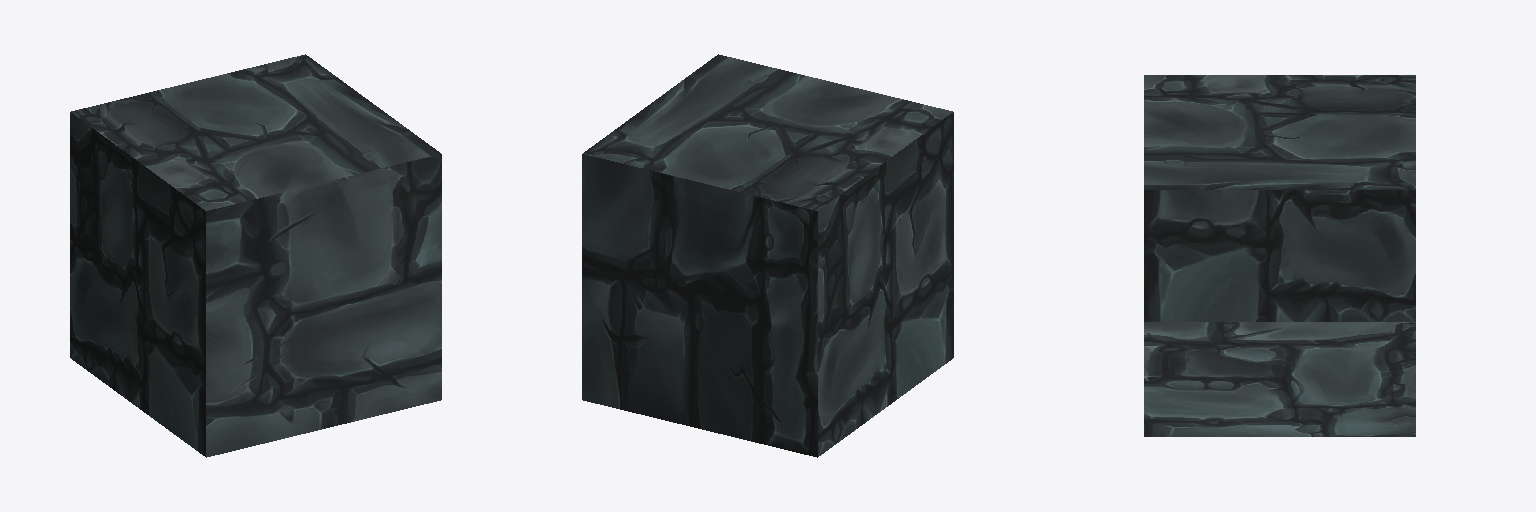
The picture shows the model from 3 angles: view 1: azimuth 30°, elevation 25°; view 2: azimuth 150°, elevation 25°; view 3: azimuth 270°, elevation 25°; orthographic projection.
Visible parts, largest first — view 1: Cube; view 2: Cube; view 3: Cube.
Part boxes in pixels (x1,y1,x2,y2): Cube: (70,54,441,457); Cube: (582,54,953,457); Cube: (1144,75,1415,436).
Size of the model in its own units: 20 by 20 by 20.
1 materials, 1 textured.